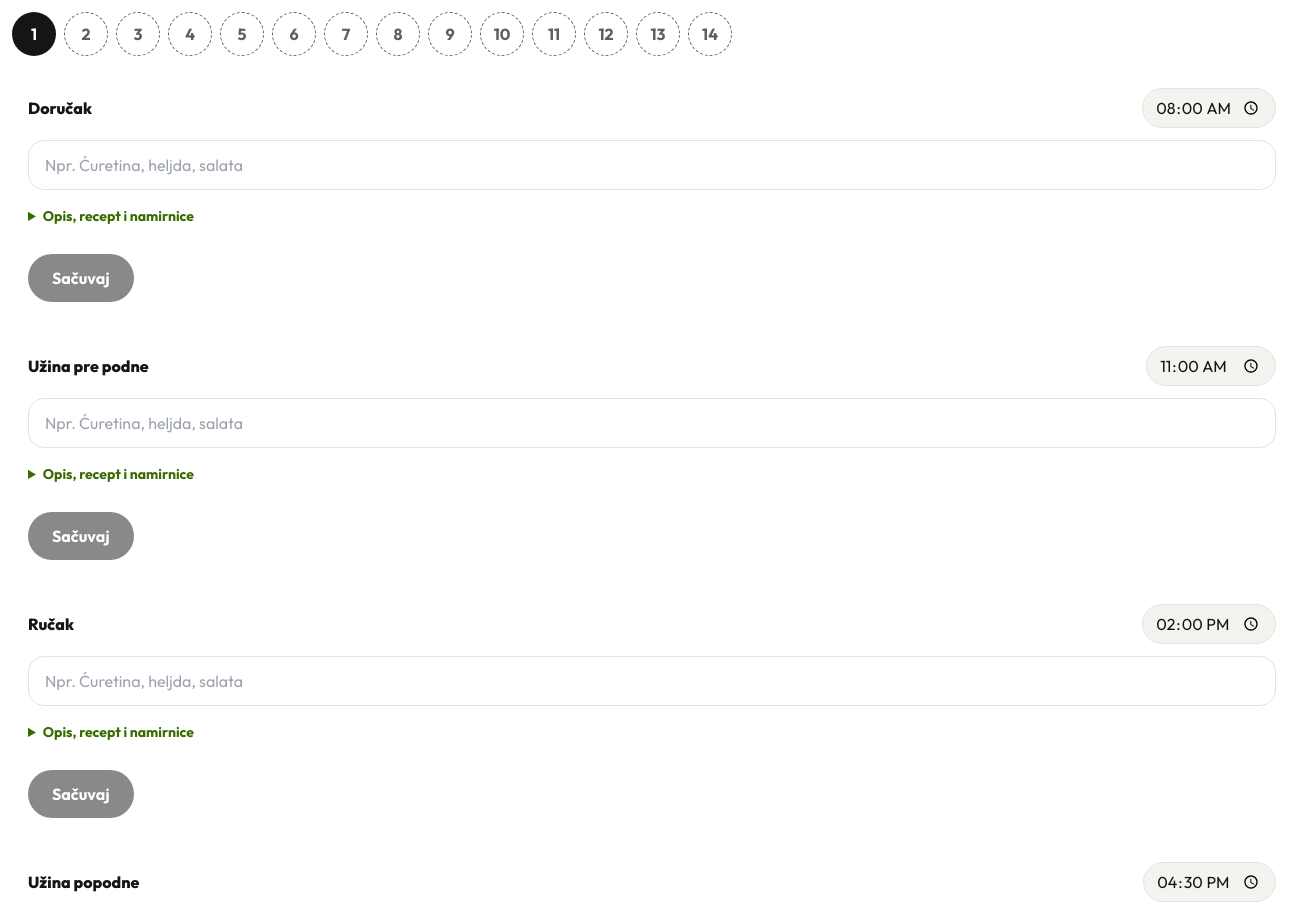
MealEditor › traži naziv obroka
Type "x" into the field with placeholder "Npr. Ćuretina, heljda, salata". click: (652, 165)
box: [28,140,1276,190]
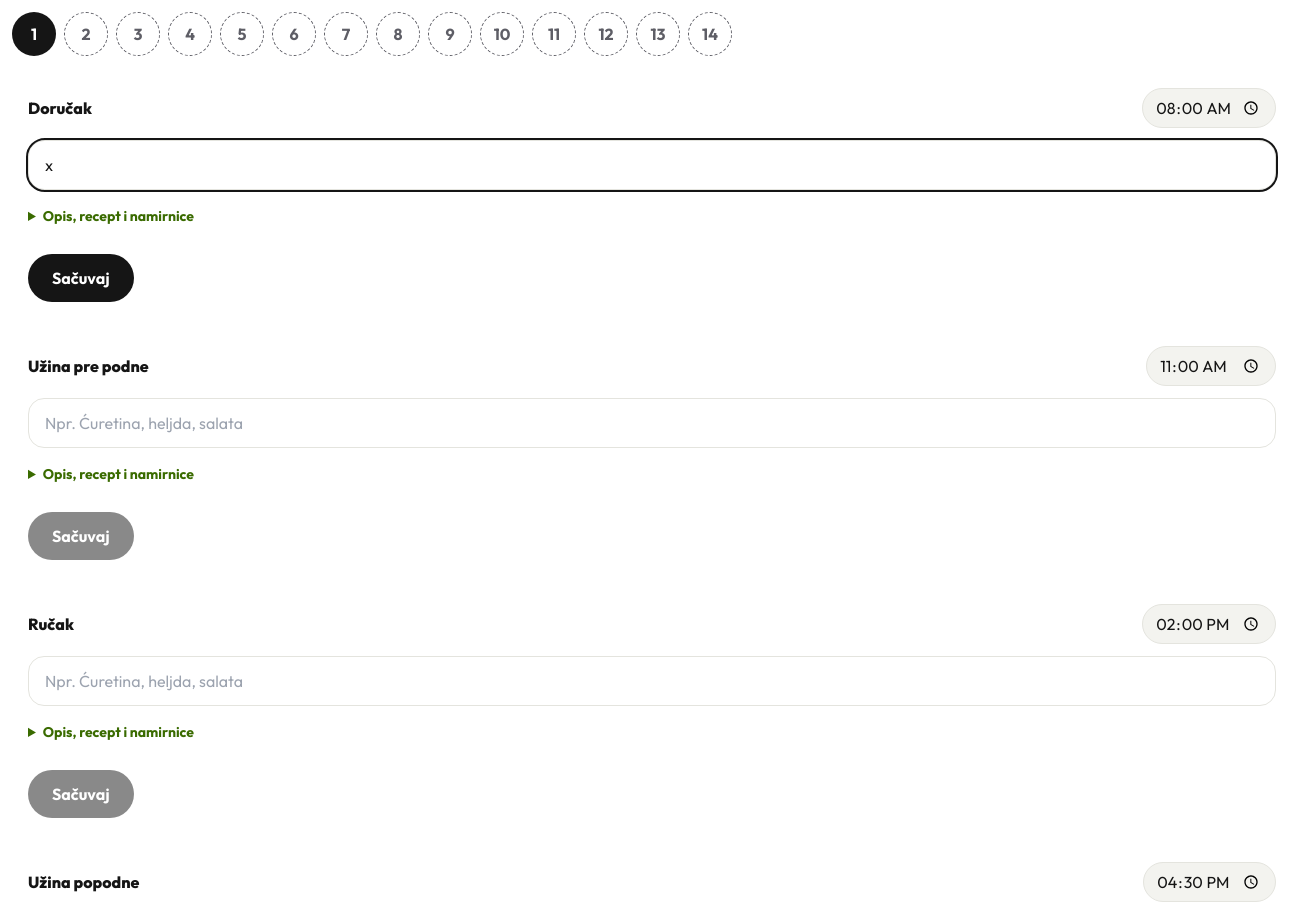
Clear the field with placeholder "Npr. Ćuretina, heljda, salata". click: (652, 165)
box: [28,140,1276,190]
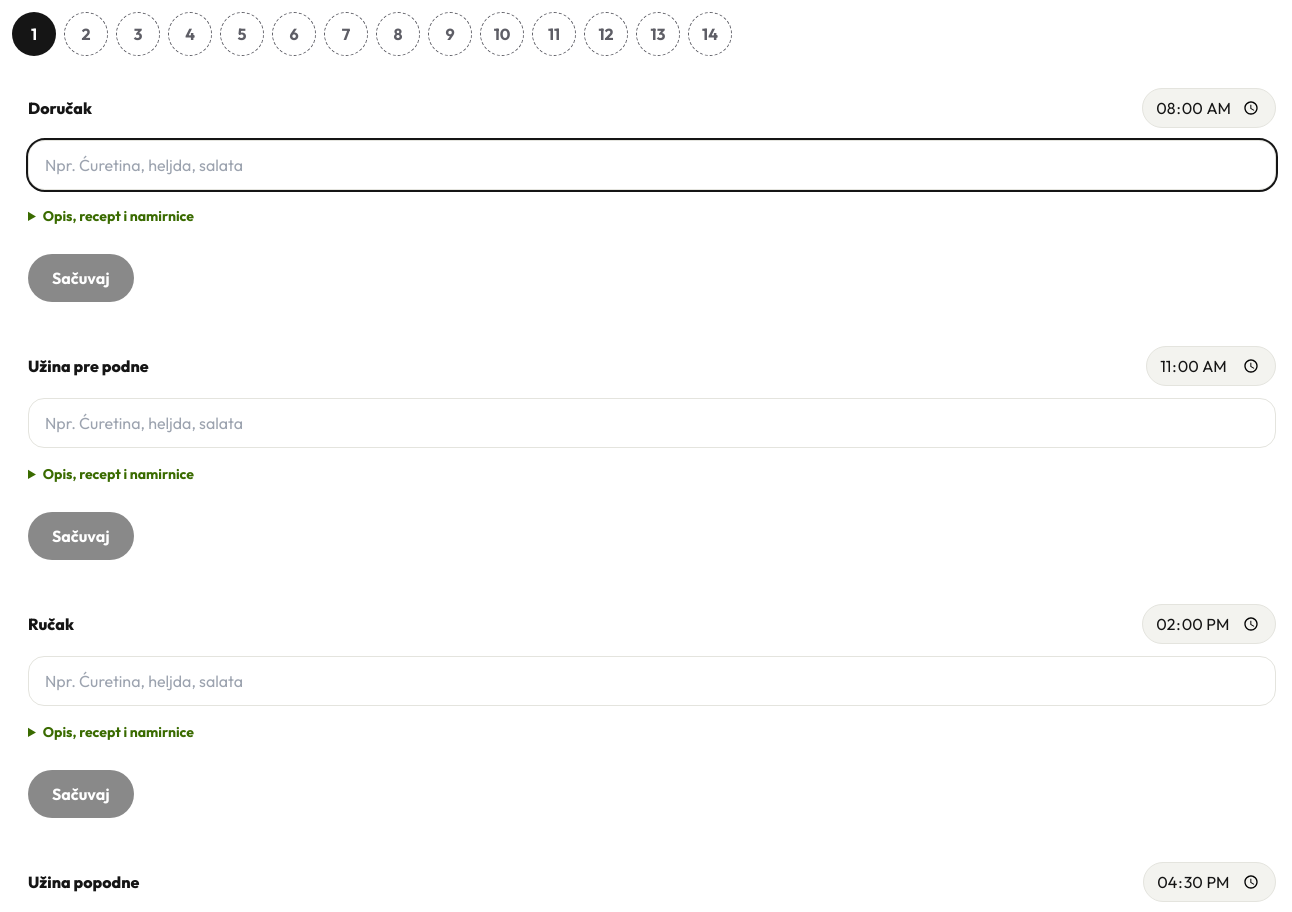
Check: the button "Sačuvaj" below "Doručak" is disabled, box [28,254,134,302]
